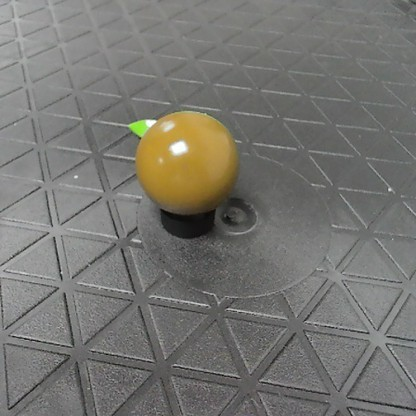leafairy: (122, 108, 241, 218)
